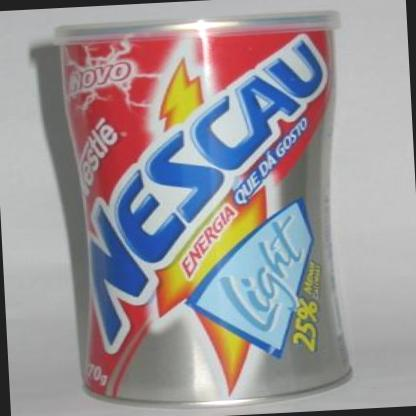alumunium_can: (52, 7, 361, 413)
